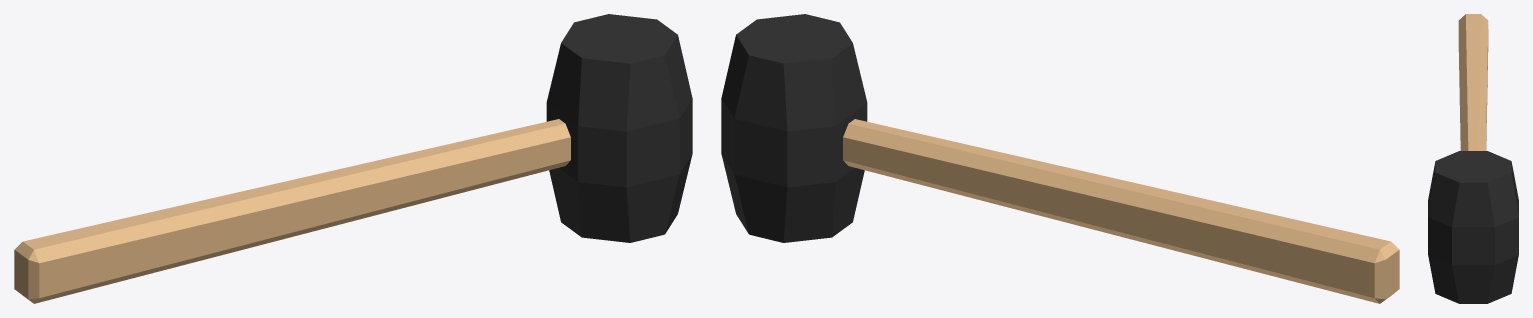
Rendered from background_mallet.fbx.
3 views of the same model, side by side, from view 1: azimuth 30°, elevation 25°; view 2: azimuth 150°, elevation 25°; view 3: azimuth 270°, elevation 25° (orthographic). The views are drawn at different scales.
Parts seen in each view (by area): view 1: mallet; view 2: mallet; view 3: mallet.
Part boxes in pixels (<box>): mallet: <box>14,14,692,303</box>; mallet: <box>721,14,1399,303</box>; mallet: <box>1428,14,1518,303</box>.
Bounding box in the file's own units: 43.06 × 11.26 × 7.63.
